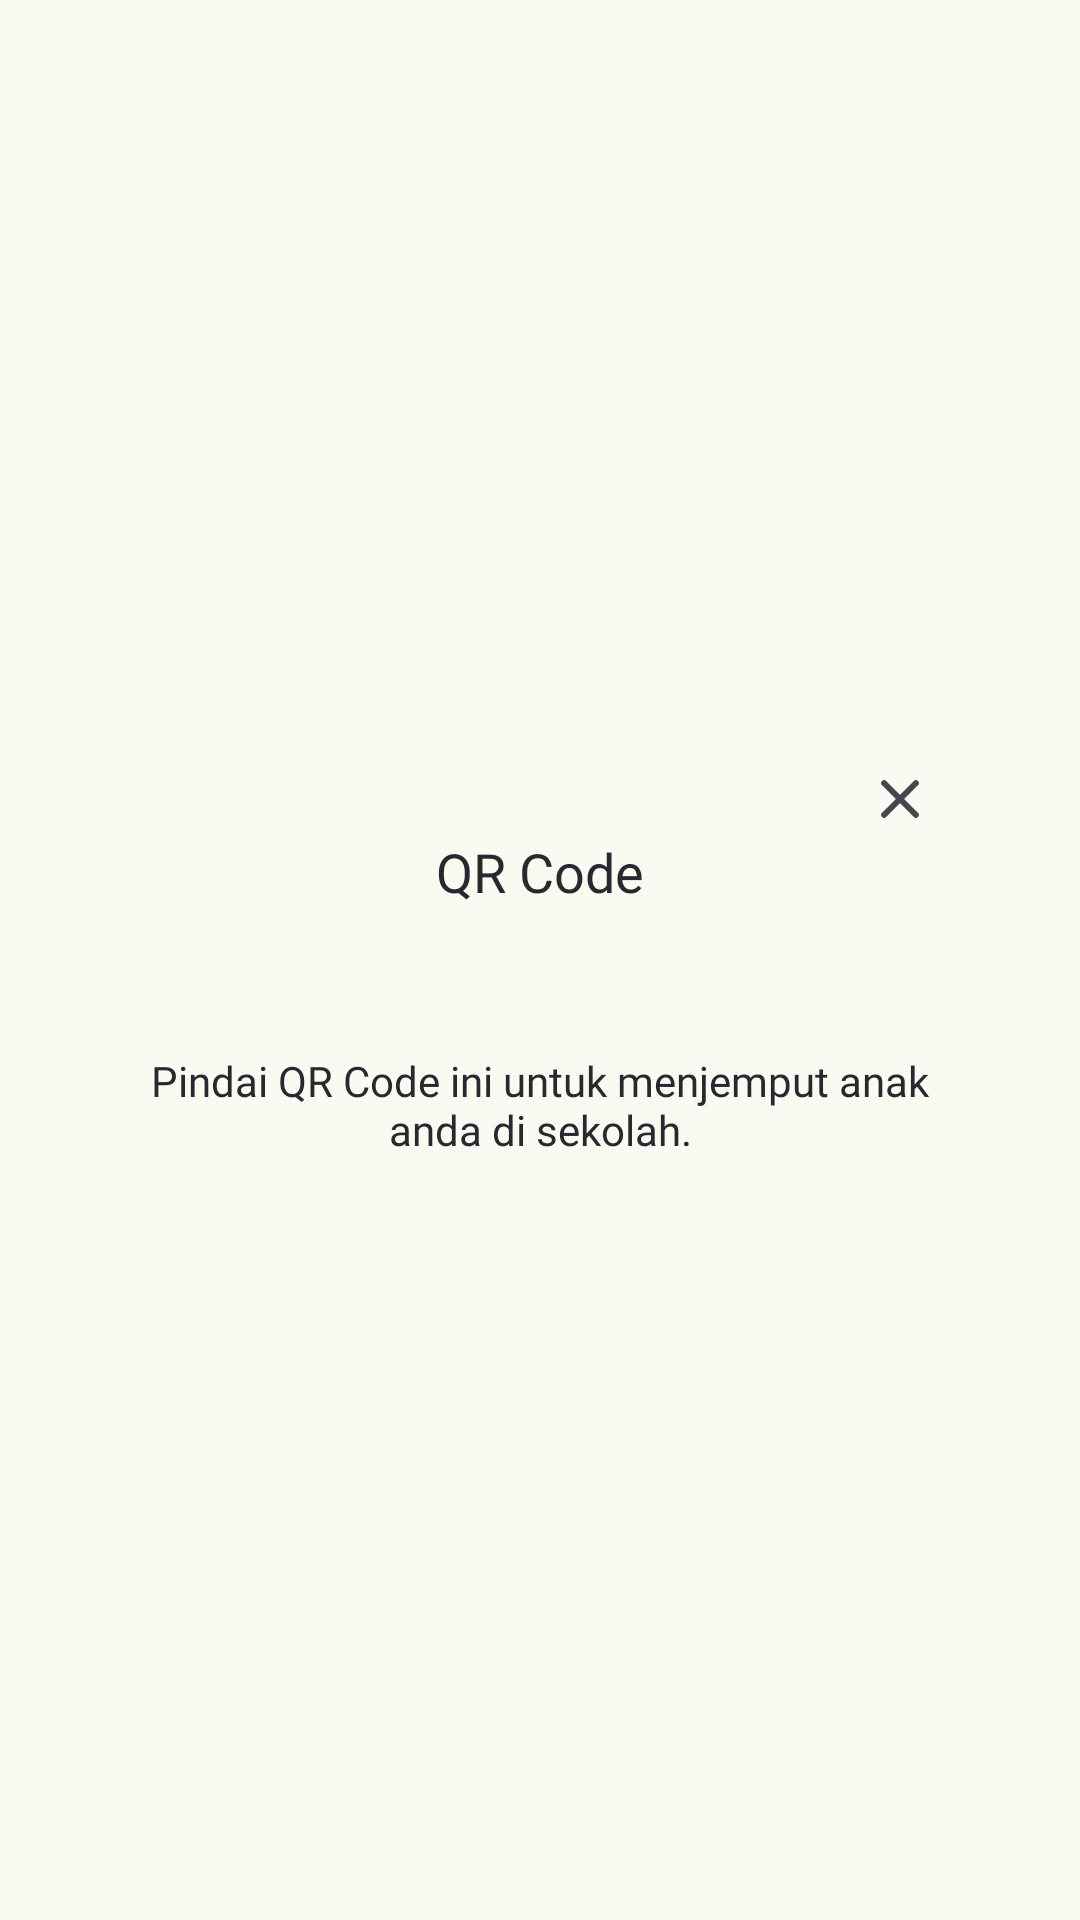

Icons on this 1080 x 1920 Android screen, each with the point to tap as (x,y):
close: (900,799)
